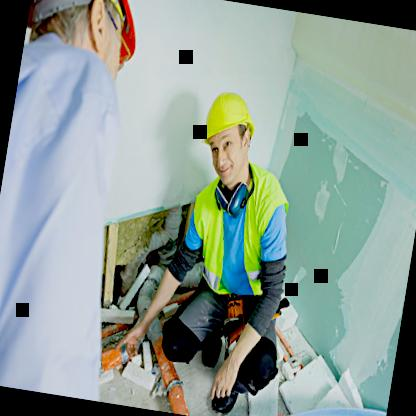helmet: (17, 0, 160, 106), (186, 72, 266, 192)
